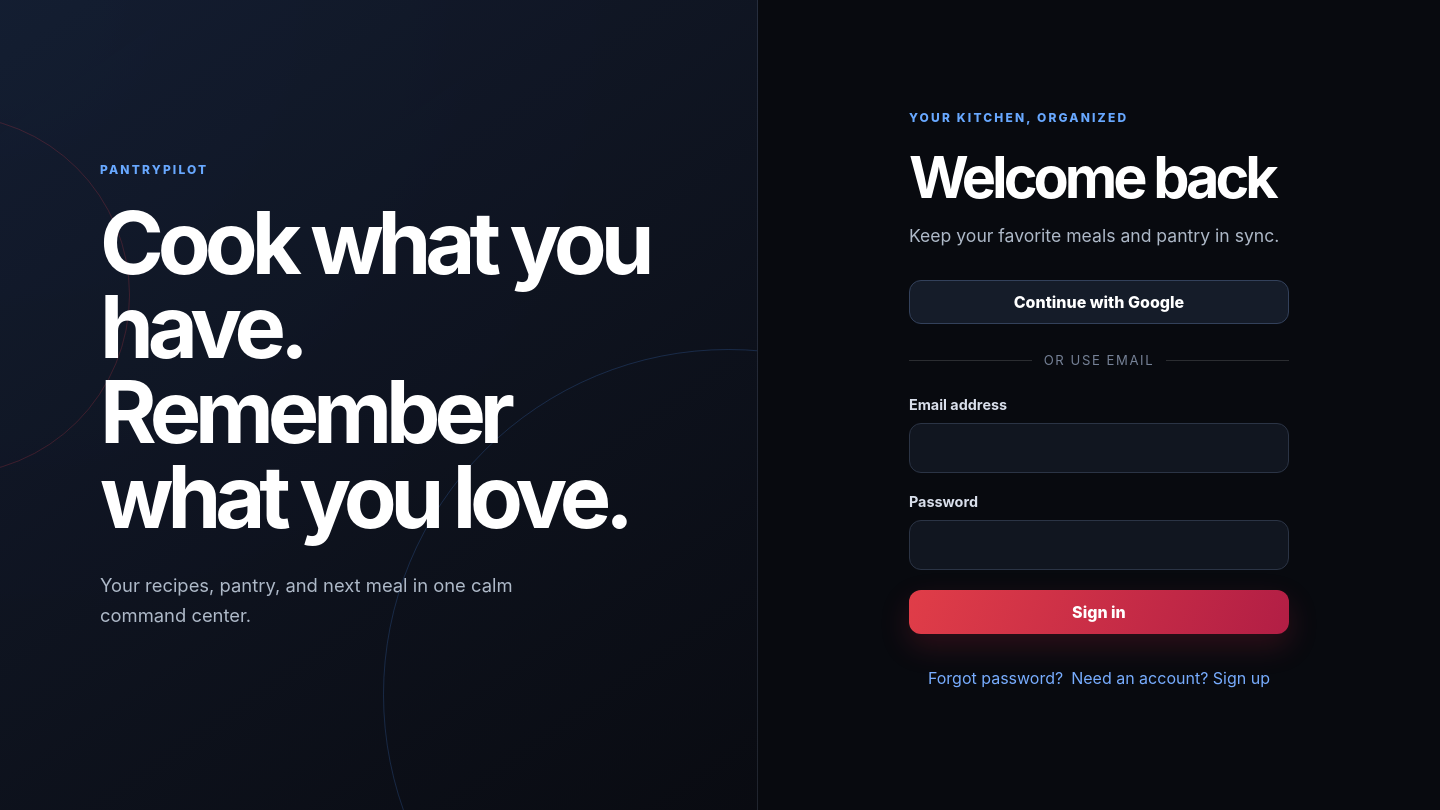
Scenario: LoginPage › surfaces an OAuth initiation error
Click the button "Continue with Google" at (1099, 302), box [909,280,1289,324]
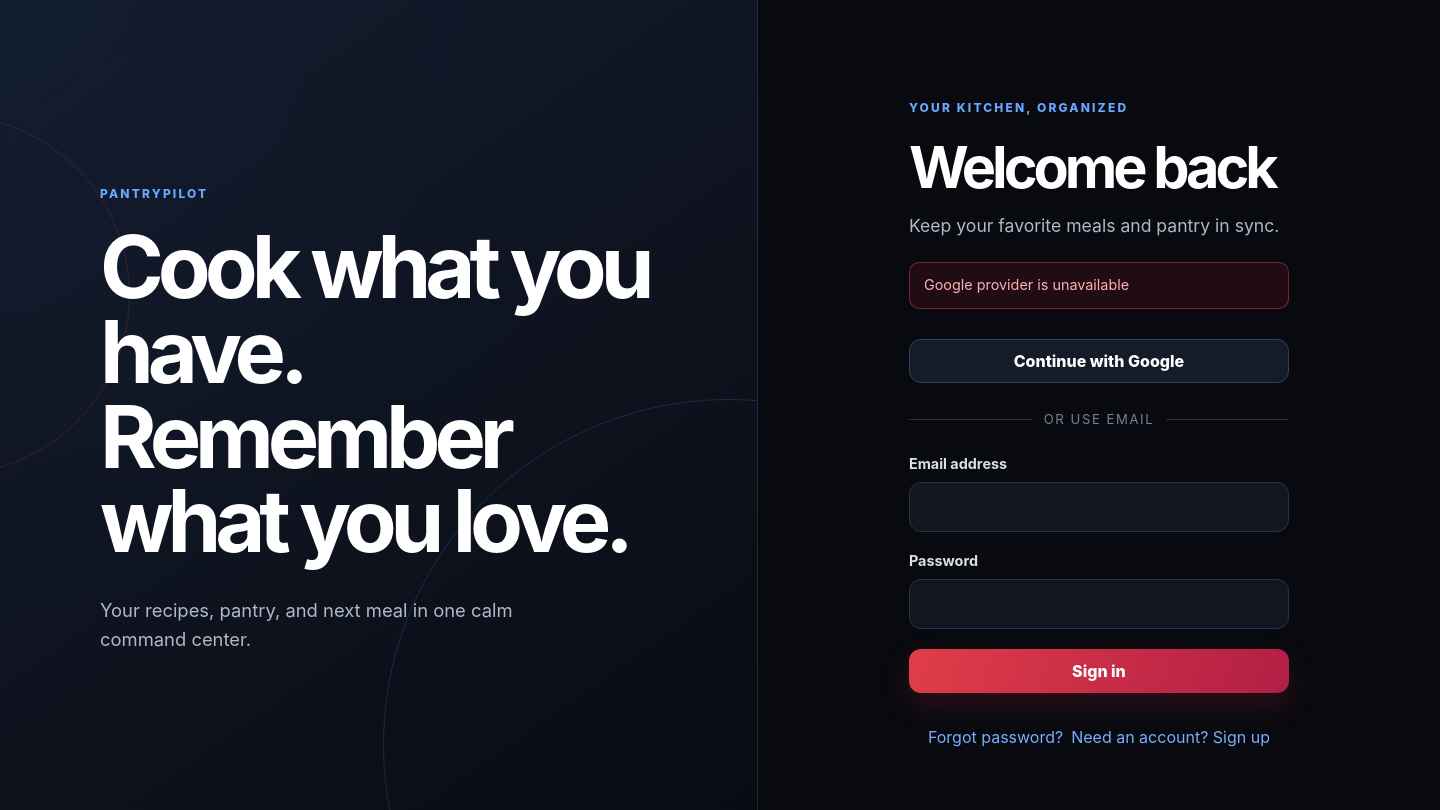
Now the message reads "Google provider is unavailable", box [924,276,1129,294]
